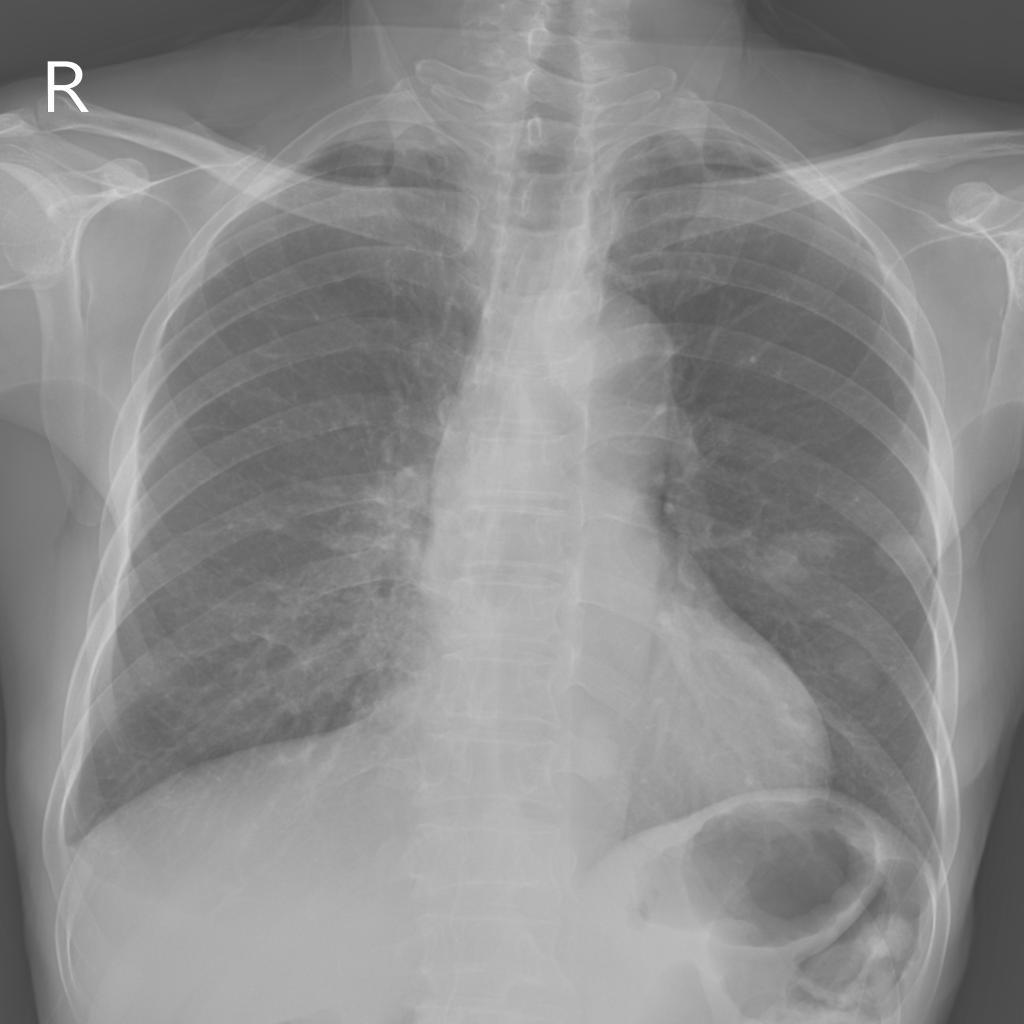Nodule: (762, 533, 830, 590), (839, 645, 885, 695), (877, 529, 920, 575)
